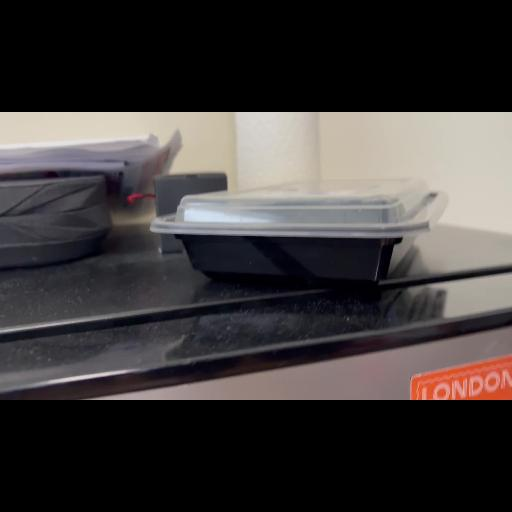rigid_plastic_container: (153, 178, 445, 286)
